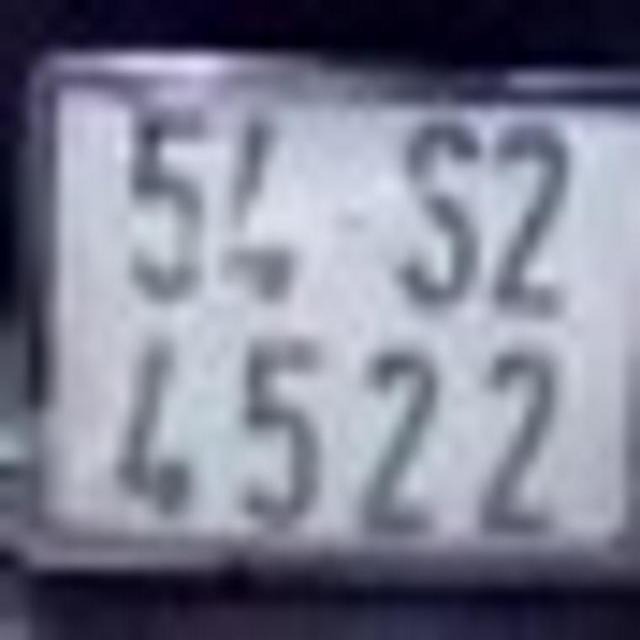2: (364, 343, 446, 540), (486, 343, 566, 539), (490, 116, 570, 303)
4: (222, 102, 304, 306), (120, 330, 190, 513)
5: (126, 98, 212, 300), (240, 330, 324, 525)
S: (395, 116, 481, 302)
